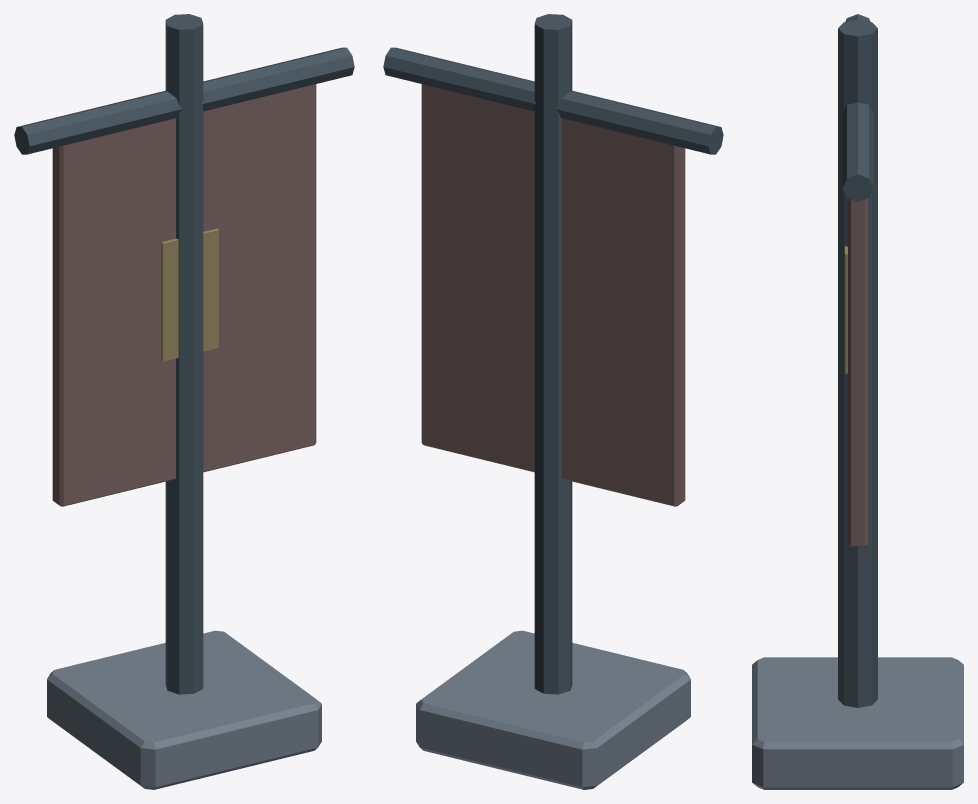
The model's file is banner.glb.
The picture shows the model from 3 angles, left to right: view 1: azimuth 30°, elevation 25°; view 2: azimuth 150°, elevation 25°; view 3: azimuth 270°, elevation 25°; orthographic projection.
Parts seen in each view (by area): view 1: banner__body; view 2: banner__body; view 3: banner__body.
Part boxes in pixels (box(x1,y1,x2,y2)): banner__body: box(14, 14, 354, 789); banner__body: box(383, 14, 723, 789); banner__body: box(752, 14, 963, 789).
Size of the model in its own units: 0.86 by 1.8 by 0.48.
